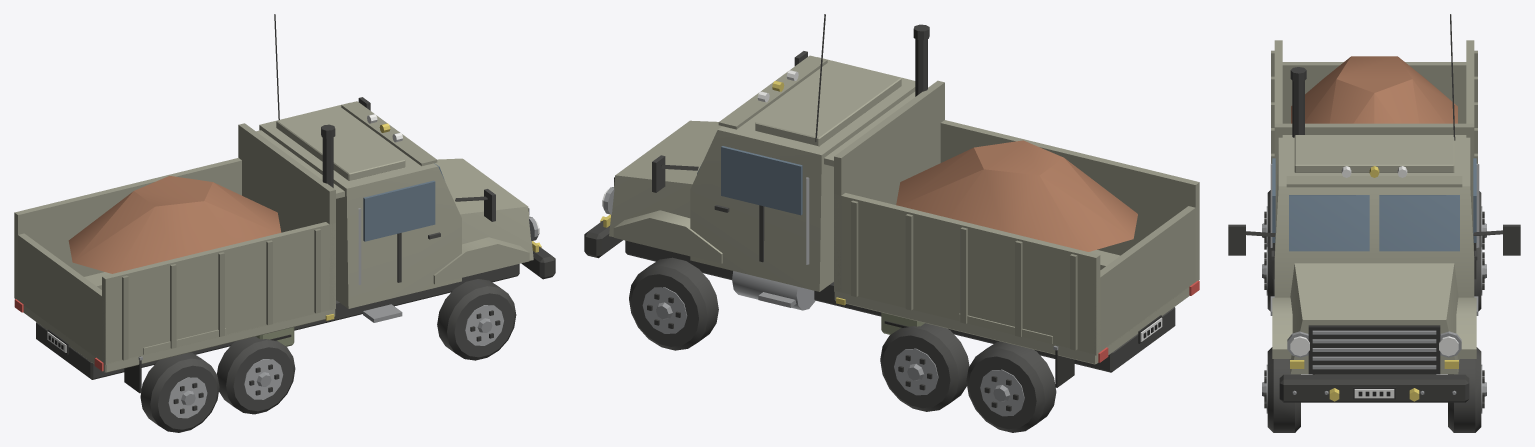
The model's file is oretruck.glb.
The picture shows the model from 3 angles, left to right: view 1: azimuth 30°, elevation 25°; view 2: azimuth 150°, elevation 25°; view 3: azimuth 270°, elevation 25°; orthographic projection. The views are drawn at different scales.
Visible parts, largest first — view 1: hull, load; view 2: hull, load; view 3: hull, load.
Boxes of the visible parts, bbox=[...] form: hull: bbox=[14, 14, 555, 432]; load: bbox=[68, 175, 281, 273]; hull: bbox=[584, 14, 1199, 432]; load: bbox=[896, 140, 1137, 251]; hull: bbox=[1228, 14, 1520, 432]; load: bbox=[1291, 56, 1457, 123].
Bounding box in the file's own units: 7.37 × 4.79 × 3.66.
